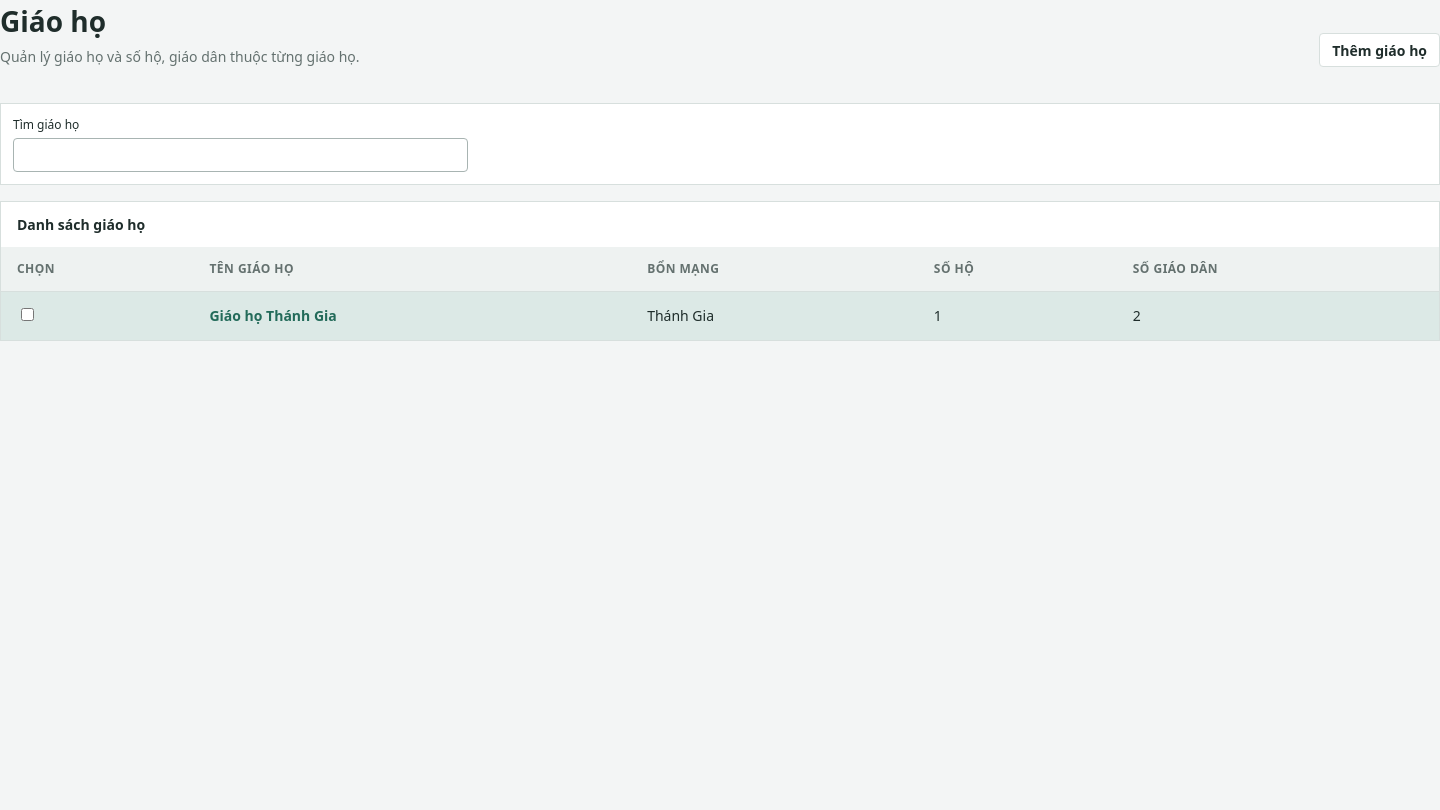
Giáo họ › tạo giáo họ từ danh sách và gửi dữ liệu qua preload
Click the button "Thêm giáo họ".
click(1380, 50)  # box x1=1319 y1=33 x2=1439 y2=67
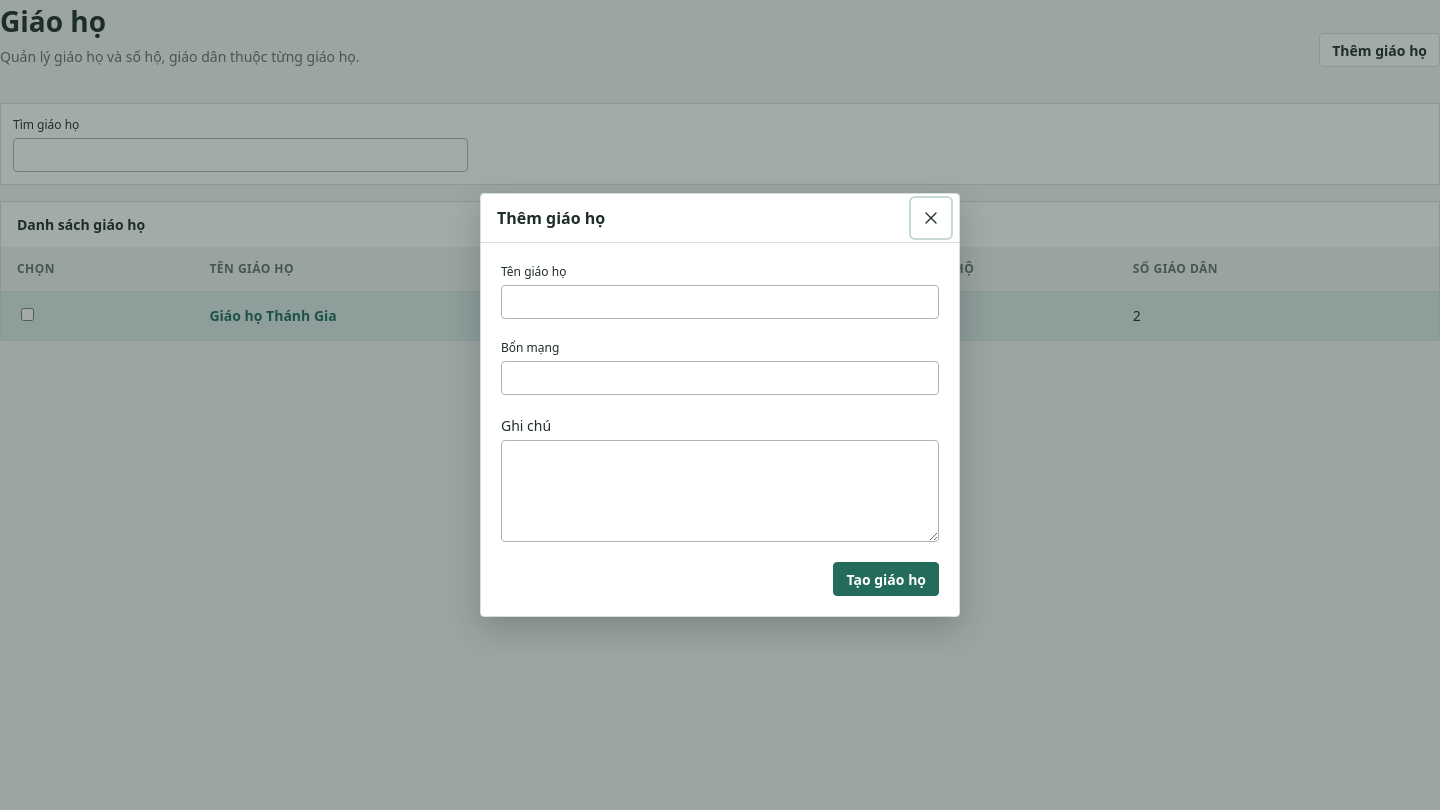
Type "Giáo họ Mân Côi" into the field labelled "Tên giáo họ".
click(720, 302); type("Giáo họ Mân Côi")  # box x1=501 y1=285 x2=939 y2=319
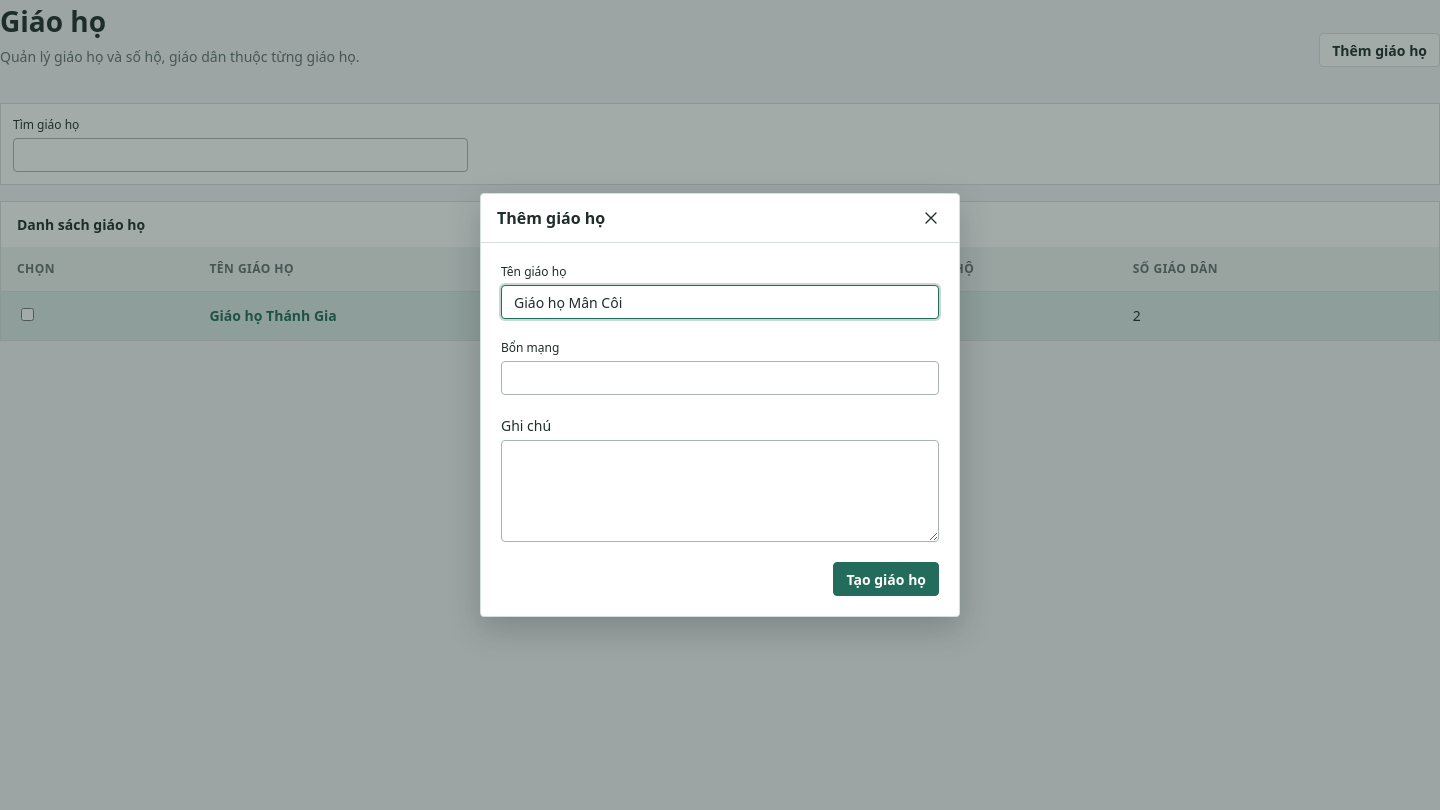
Click the button "Tạo giáo họ".
click(886, 579)  # box x1=834 y1=562 x2=939 y2=596
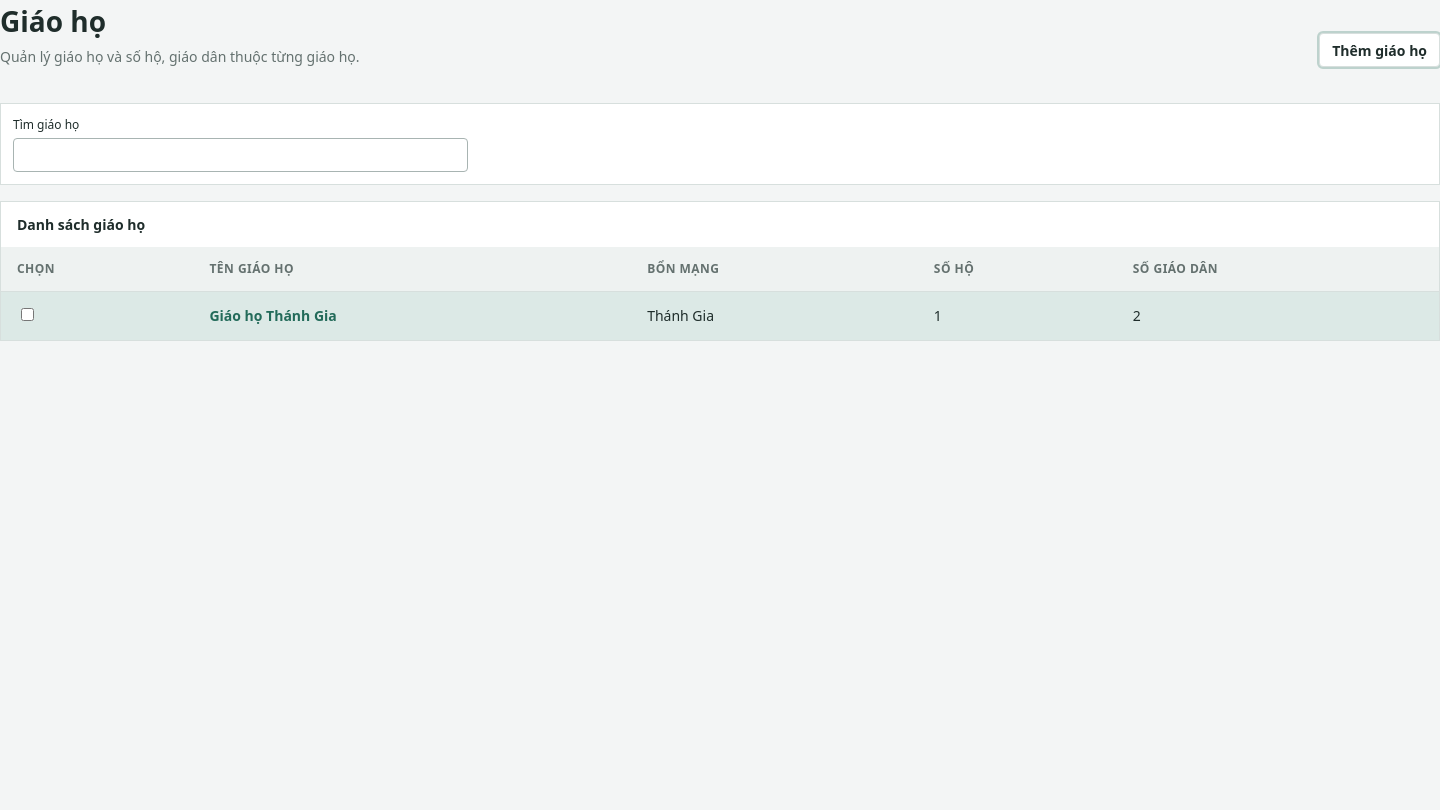
Expected: the dialog is gone
